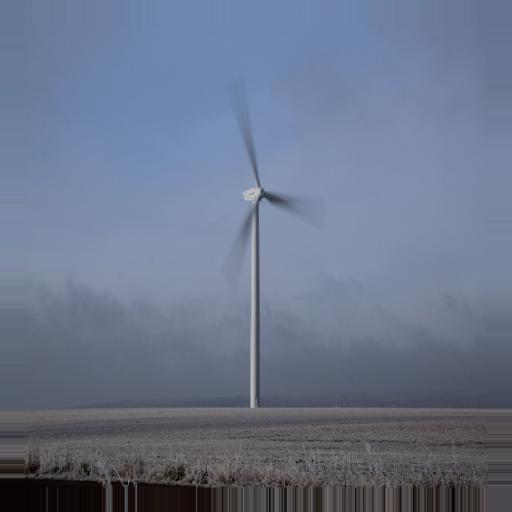wind turbine: (208, 80, 328, 409)
